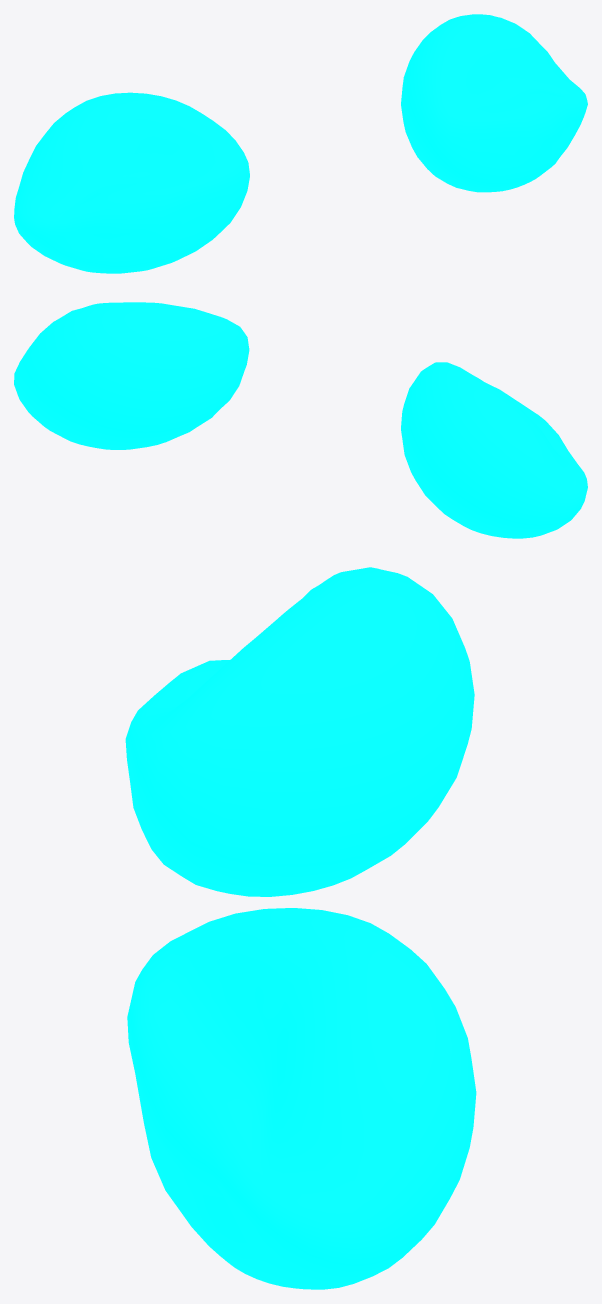
File: Zombie-Blue.glb
The picture shows the model from 3 angles, top to bottom: view 1: azimuth 30°, elevation 25°; view 2: azimuth 150°, elevation 25°; view 3: azimuth 270°, elevation 25°; orthographic projection. The views are drawn at different scales.
Parts seen in each view (by area): view 1: Sphere.001; view 2: Sphere.001; view 3: Sphere.001.
Part boxes in pixels (<box>): Sphere.001: <box>14,14,587,273</box>; Sphere.001: <box>14,302,587,538</box>; Sphere.001: <box>125,567,476,1289</box>.
Size of the model in its own units: 0.3788 by 0.1042 by 0.1024.
